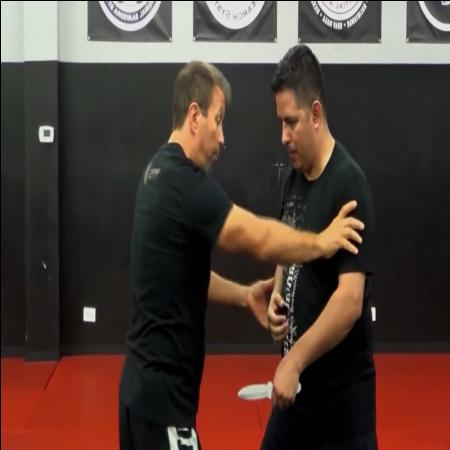long weapon: (232, 372, 303, 406)
